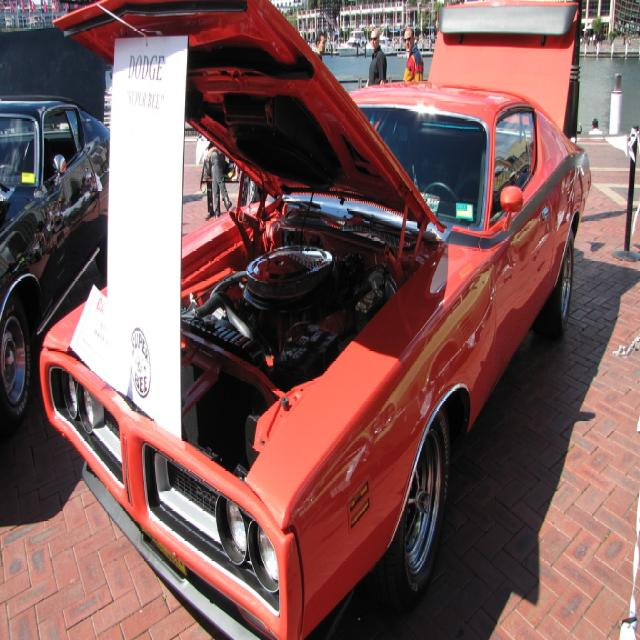car: (29, 45, 551, 626)
